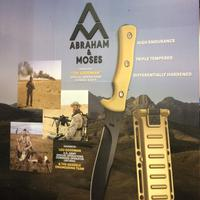knife: (87, 28, 140, 196)
